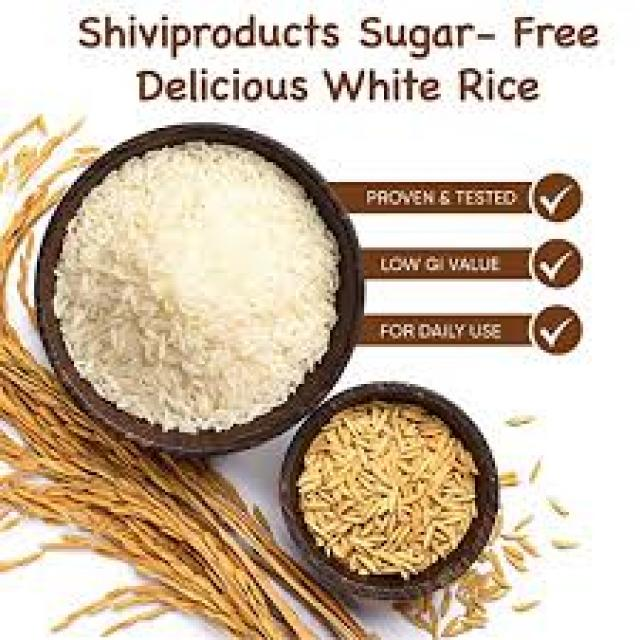White Rice: (53, 158, 343, 438)
